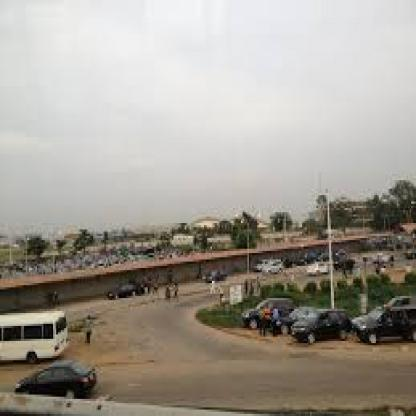car: (10, 353, 104, 405), (1, 304, 70, 364), (350, 300, 416, 360), (286, 306, 350, 350), (250, 290, 303, 326)
